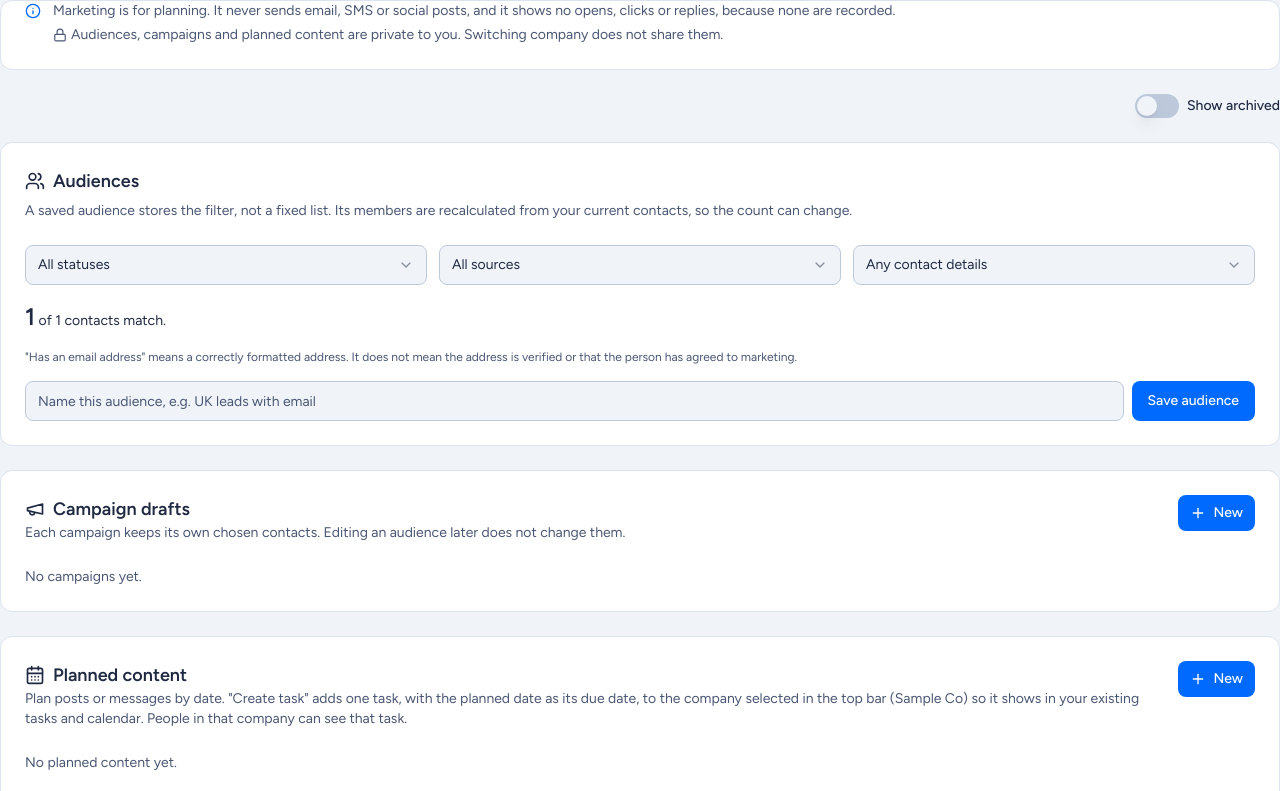
Test: MarketingTab › rejects a blank audience name without saving
This screenshot has width=1280, height=791.
Click the button "Save audience" at (1193, 401), box [1132,381,1255,421]
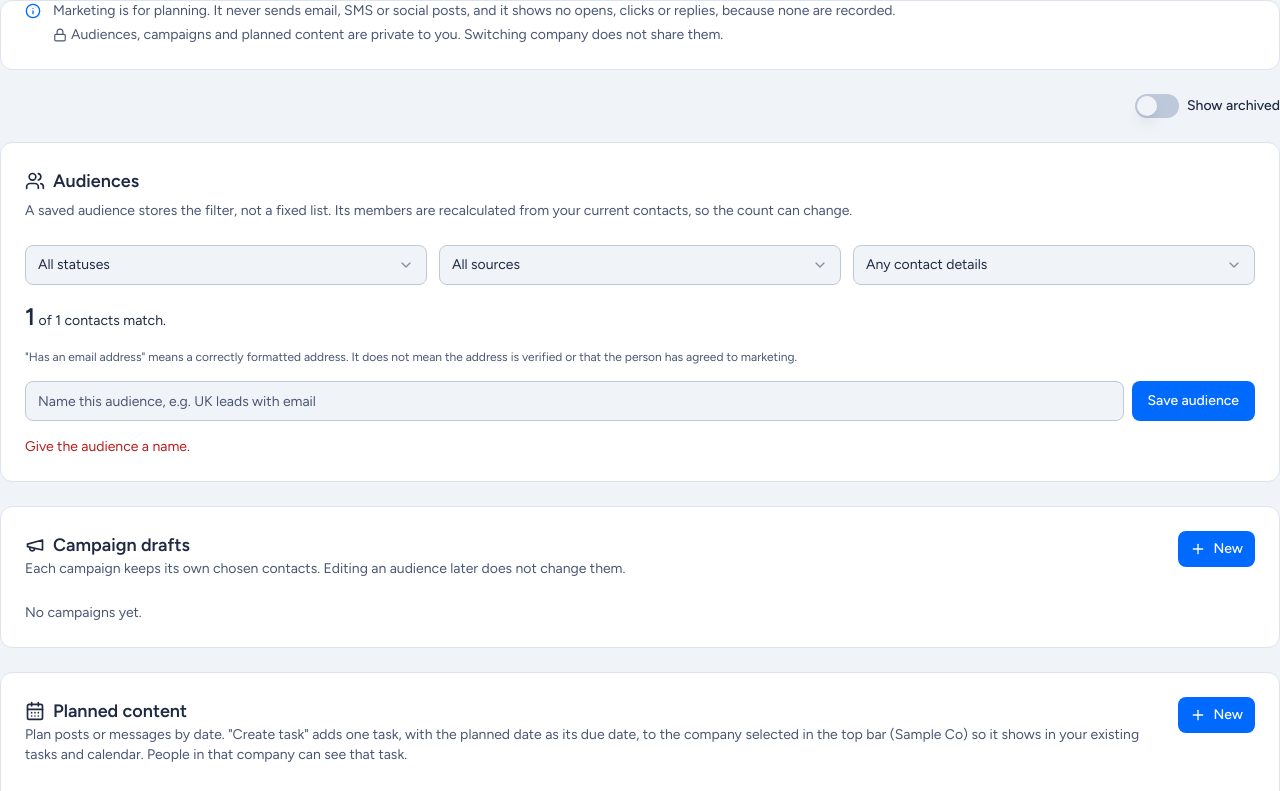
expect the message reads "Give the audience a name.": met, box [25,438,190,455]
